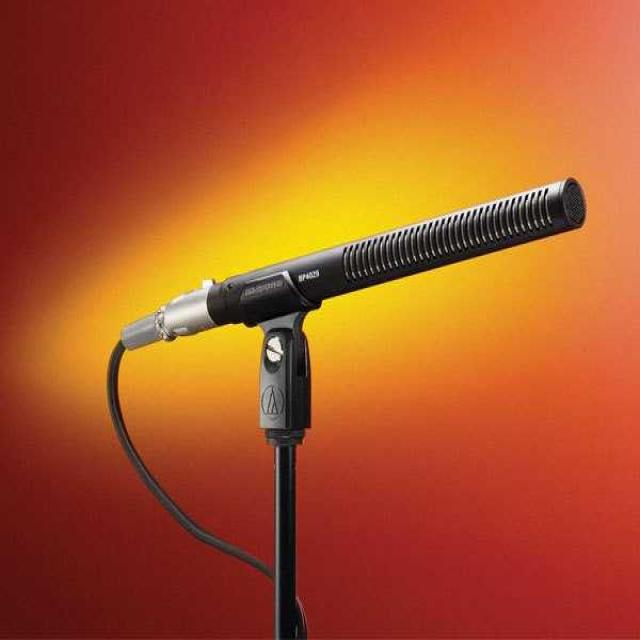microphone: (207, 181, 577, 329)
